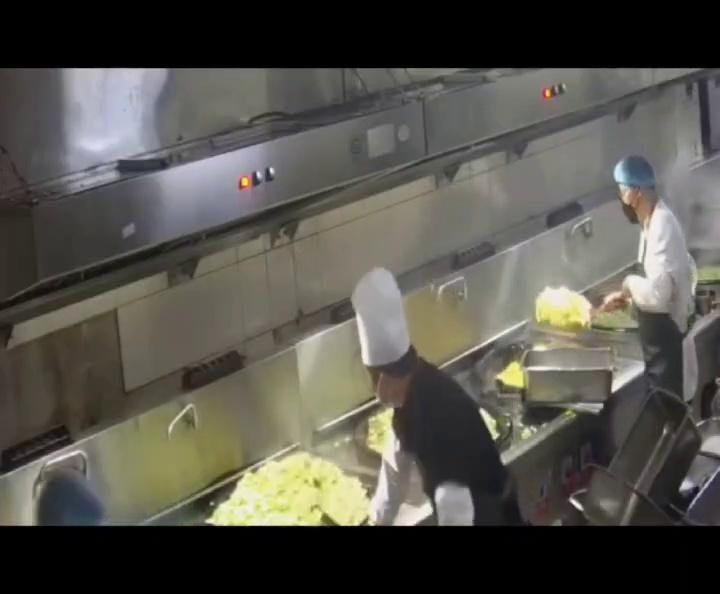gloves: (612, 154, 660, 187)
mask: (620, 196, 639, 224)
